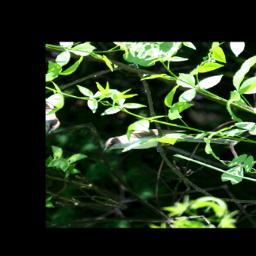Cuckoo: (98, 108, 238, 185)
